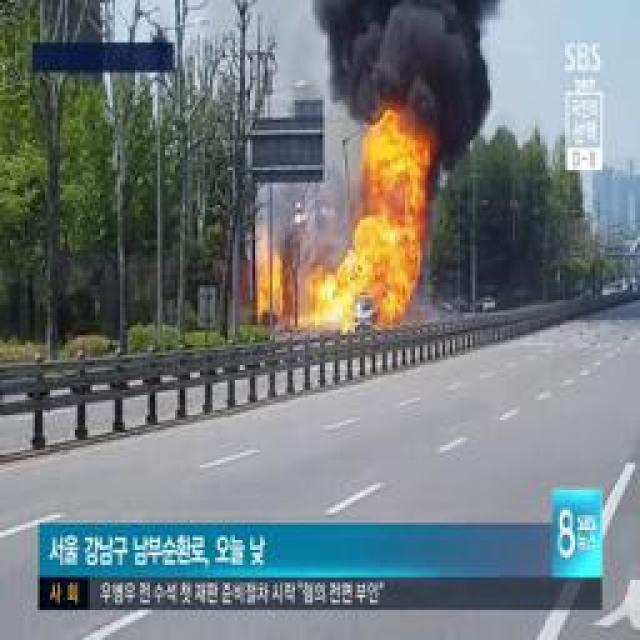Fire: (361, 152, 423, 288), (302, 272, 360, 322), (256, 258, 280, 312), (370, 292, 413, 322)
